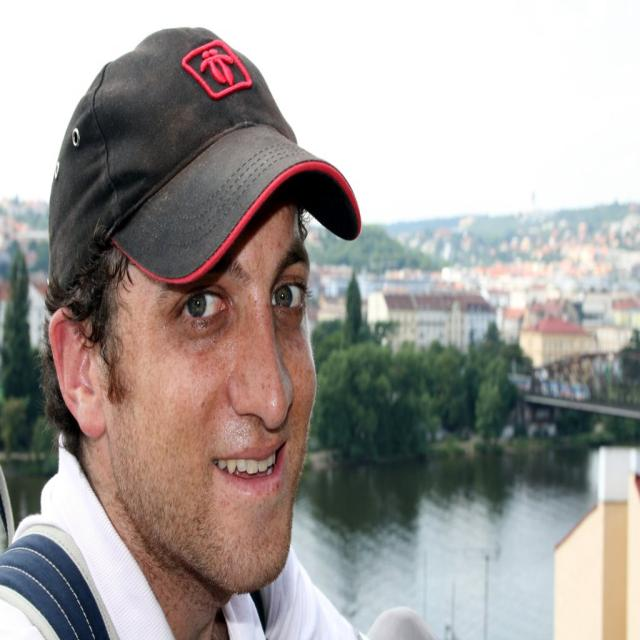Hat: (47, 21, 361, 287)
